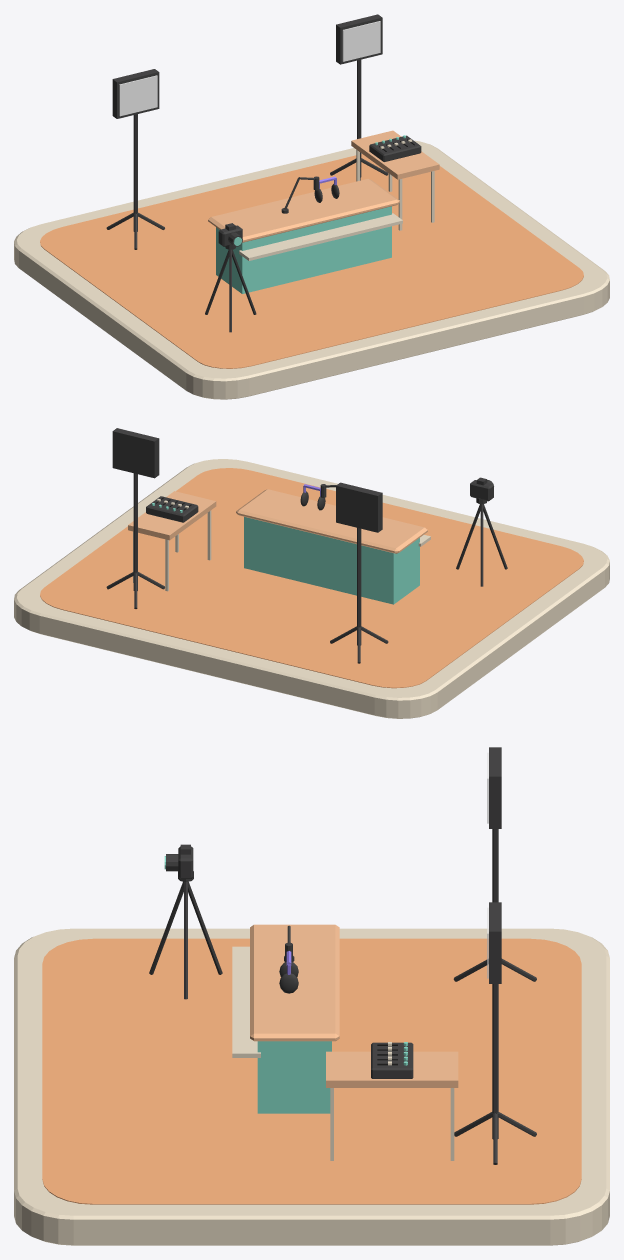
The model's file is room.fbx.
3 views of the same model, one above another, from view 1: azimuth 30°, elevation 25°; view 2: azimuth 150°, elevation 25°; view 3: azimuth 270°, elevation 25° (orthographic). The views are drawn at different scales.
Parts seen in each view (by area): view 1: COM-02 Floor Surface, COM-01 Rounded Base Direct, Counter body, Countertop, Top, Visitor shelf, Diffuser, Diffuser.001, Audio console, Light panel, Light panel.001, Pole; view 2: COM-02 Floor Surface, COM-01 Rounded Base Direct, Counter body, Countertop, Top, Light panel.001, Light panel, Audio console, Pole, Pole.001; view 3: COM-02 Floor Surface, COM-01 Rounded Base Direct, Countertop, Counter body, Top, Visitor shelf, Audio console, Light panel, Light panel.001, Pole.001.
Part boxes in pixels (x1=…): COM-02 Floor Surface: x1=40, y1=154, x2=583, y2=368; COM-01 Rounded Base Direct: x1=14, y1=140, x2=609, y2=399; Counter body: x1=216, y1=206, x2=391, y2=293; Countertop: x1=208, y1=178, x2=399, y2=242; Top: x1=351, y1=130, x2=439, y2=230; Visitor shelf: x1=239, y1=213, x2=402, y2=260; Diffuser: x1=119, y1=75, x2=157, y2=116; Diffuser.001: x1=342, y1=21, x2=380, y2=61; Audio console: x1=369, y1=135, x2=421, y2=161; Light panel: x1=112, y1=69, x2=159, y2=118; Light panel.001: x1=336, y1=14, x2=382, y2=64; Pole: x1=133, y1=114, x2=137, y2=231; COM-02 Floor Surface: x1=40, y1=468, x2=583, y2=688; COM-01 Rounded Base Direct: x1=14, y1=459, x2=609, y2=718; Counter body: x1=244, y1=517, x2=419, y2=604; Countertop: x1=236, y1=489, x2=427, y2=553; Top: x1=128, y1=491, x2=216, y2=591; Light panel.001: x1=112, y1=428, x2=159, y2=478; Light panel: x1=336, y1=482, x2=382, y2=532; Audio console: x1=146, y1=496, x2=198, y2=522; Pole: x1=357, y1=528, x2=361, y2=645; Pole.001: x1=133, y1=473, x2=137, y2=590; COM-02 Floor Surface: x1=42, y1=938, x2=581, y2=1204; COM-01 Rounded Base Direct: x1=14, y1=928, x2=609, y2=1245; Countertop: x1=250, y1=924, x2=339, y2=1041; Counter body: x1=257, y1=1041, x2=331, y2=1113; Top: x1=326, y1=1051, x2=458, y2=1160; Visitor shelf: x1=232, y1=946, x2=260, y2=1057; Audio console: x1=371, y1=1042, x2=413, y2=1078; Light panel: x1=489, y1=747, x2=501, y2=828; Light panel.001: x1=489, y1=902, x2=501, y2=983; Pole.001: x1=492, y1=984, x2=498, y2=1139.
Size of the model in its own units: 600 by 253 by 520.
